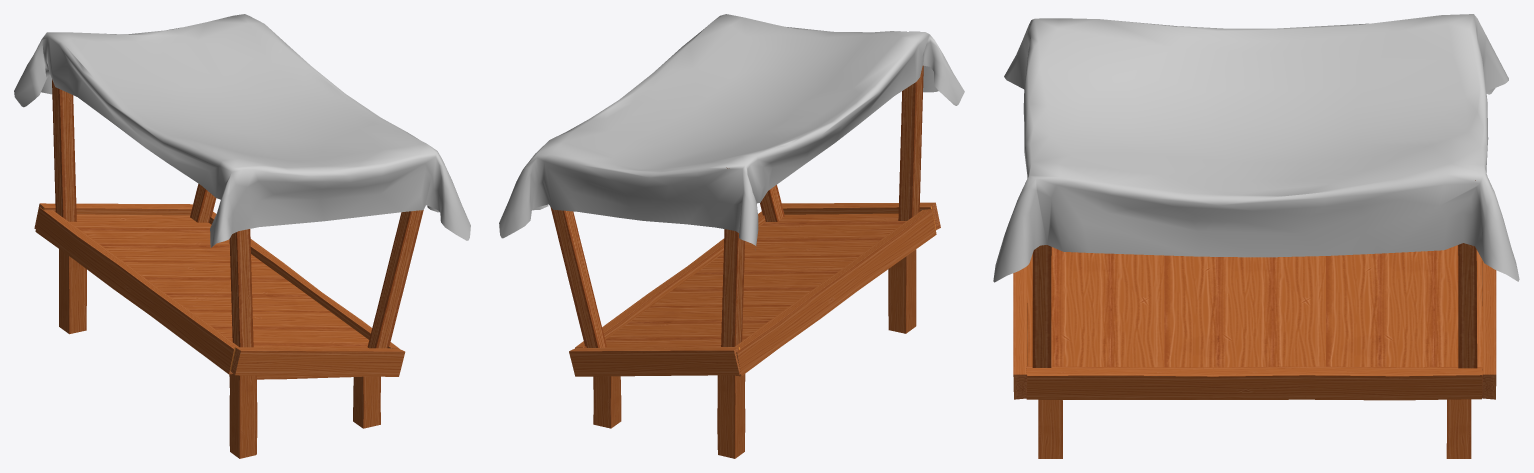
Rendered from MarketStall.fbx.
The picture shows the model from 3 angles, left to right: view 1: azimuth 30°, elevation 25°; view 2: azimuth 150°, elevation 25°; view 3: azimuth 270°, elevation 25°; orthographic projection. The views are drawn at different scales.
Visible parts, largest first — view 1: Cube.010, Cube; view 2: Cube.010, Cube; view 3: Cube.010, Cube.
Part boxes in pixels (box(x1,y1,x2,y2)): Cube.010: box(14, 14, 470, 247); Cube: box(34, 79, 423, 458); Cube.010: box(499, 14, 964, 249); Cube: box(550, 65, 940, 458); Cube.010: box(993, 14, 1519, 282); Cube: box(1013, 180, 1496, 458).
Bounding box in the file's own units: 341 × 377 × 506.
